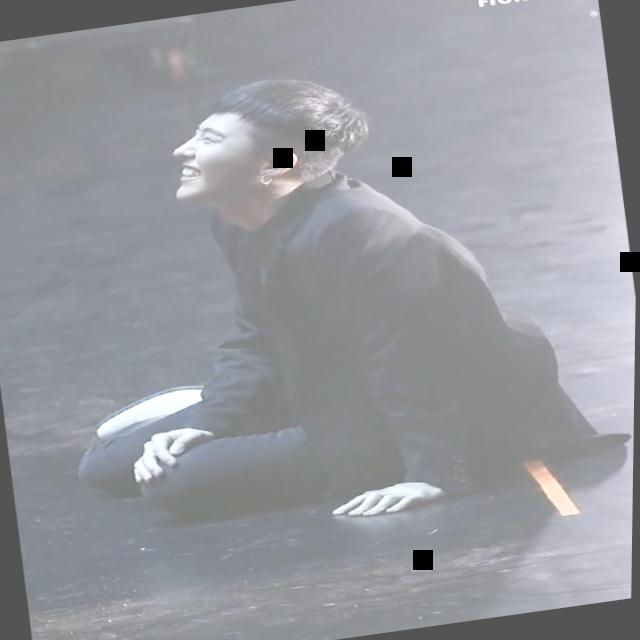Fall-Detected: (0, 18, 637, 570)
